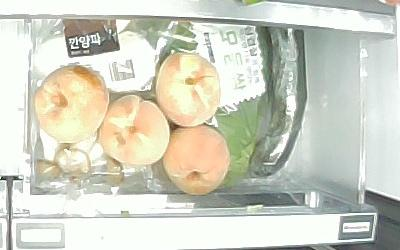peach: (33, 65, 109, 142), (101, 93, 170, 166), (154, 52, 220, 128), (163, 125, 230, 195)
